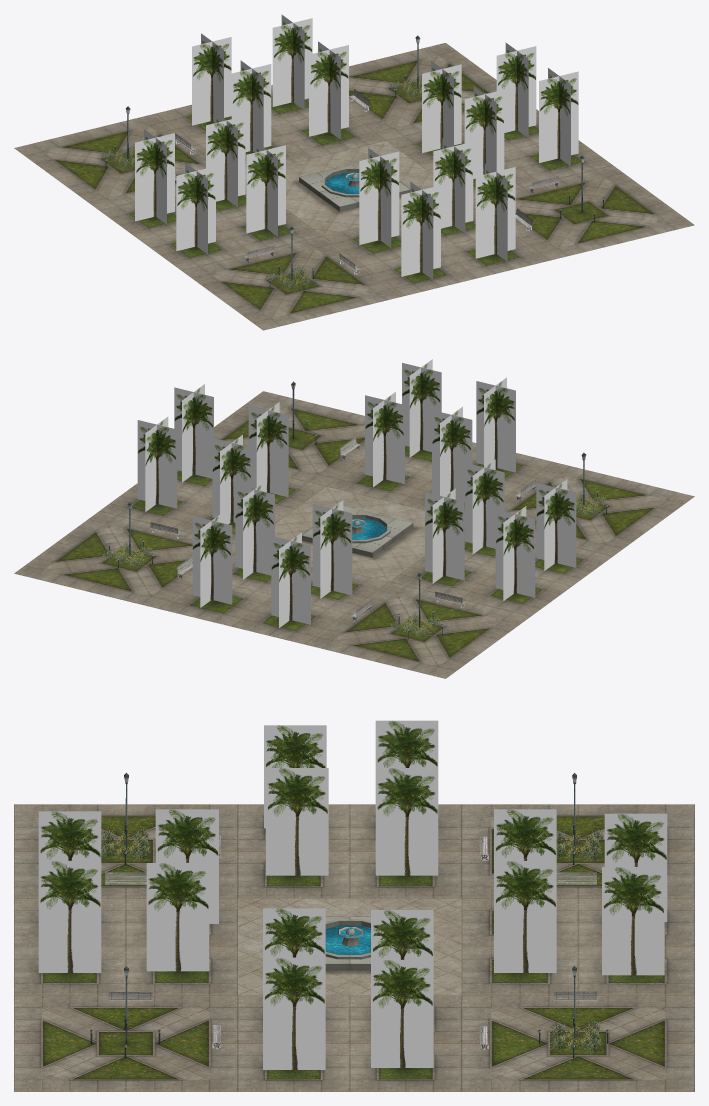
Rendered from Park+01.dae.
3 views of the same model, one above another, from view 1: azimuth 30°, elevation 25°; view 2: azimuth 150°, elevation 25°; view 3: azimuth 270°, elevation 25° (orthographic). The views are drawn at different scales.
Visible parts, largest first — view 1: group_17 (×15), group_18 (×15), instance_38, instance_39, instance_31, instance_33, instance_37, instance_34, instance_35, instance_32, instance_36, group_19 (+2 smaller); view 2: group_17 (×15), group_18 (×15), instance_31, instance_33, instance_38, instance_39, instance_32, instance_34, instance_35, instance_36, instance_37, group_19 (+2 smaller); view 3: group_18 (×15), instance_33, instance_39, instance_32, instance_36, instance_34, instance_37, instance_31, instance_38, instance_35, group_20, instance_50 (+1 smaller).
Boxes of the visible parts, bbox=[...] form: group_17 (×15): bbox=[135, 18, 578, 276]; group_18 (×15): bbox=[144, 14, 570, 279]; instance_38: bbox=[182, 236, 404, 330]; instance_39: bbox=[473, 165, 694, 260]; instance_31: bbox=[14, 113, 205, 210]; instance_33: bbox=[349, 43, 496, 140]; instance_37: bbox=[323, 205, 549, 295]; instance_34: bbox=[100, 179, 322, 270]; instance_35: bbox=[245, 141, 433, 235]; instance_32: bbox=[156, 85, 385, 174]; instance_36: bbox=[386, 109, 612, 199]; group_19: bbox=[359, 151, 399, 244]; group_17 (×15): bbox=[137, 363, 576, 624]; group_18 (×15): bbox=[145, 359, 567, 627]; instance_31: bbox=[304, 582, 530, 678]; instance_33: bbox=[14, 511, 235, 608]; instance_38: bbox=[504, 462, 694, 556]; instance_39: bbox=[214, 391, 364, 486]; instance_32: bbox=[159, 553, 388, 644]; instance_34: bbox=[389, 527, 612, 616]; instance_35: bbox=[275, 486, 464, 581]; instance_36: bbox=[100, 470, 325, 543]; instance_37: bbox=[326, 442, 552, 519]; group_19: bbox=[432, 410, 472, 501]; group_18 (×15): bbox=[38, 720, 667, 1069]; instance_33: bbox=[461, 995, 694, 1091]; instance_39: bbox=[14, 995, 237, 1091]; instance_32: bbox=[461, 898, 694, 995]; instance_36: bbox=[238, 995, 461, 1091]; instance_34: bbox=[238, 804, 461, 898]; instance_37: bbox=[14, 898, 237, 995]; instance_31: bbox=[461, 804, 694, 898]; instance_38: bbox=[14, 804, 237, 898]; instance_35: bbox=[238, 898, 461, 995]; group_20: bbox=[155, 809, 218, 923]; instance_50: bbox=[325, 916, 370, 970].
Bounding box in the file's own units: 4000 × 4000 × 812.
11 materials, 11 textured.
